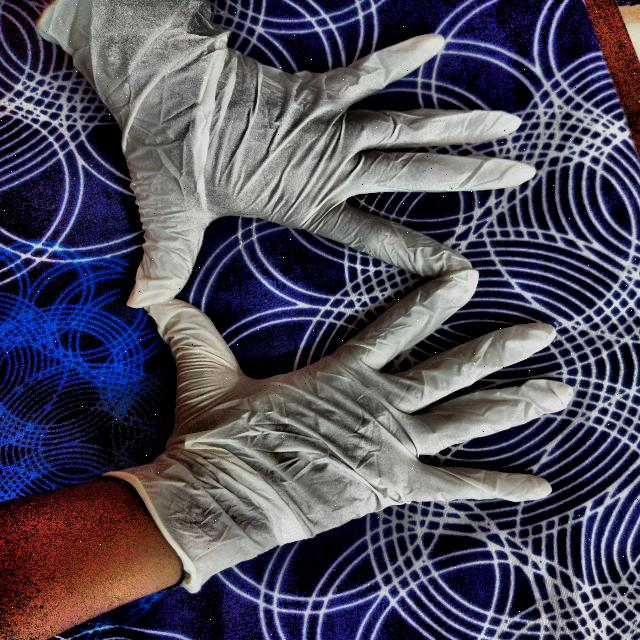gloved: (24, 2, 542, 314), (92, 265, 580, 594)
